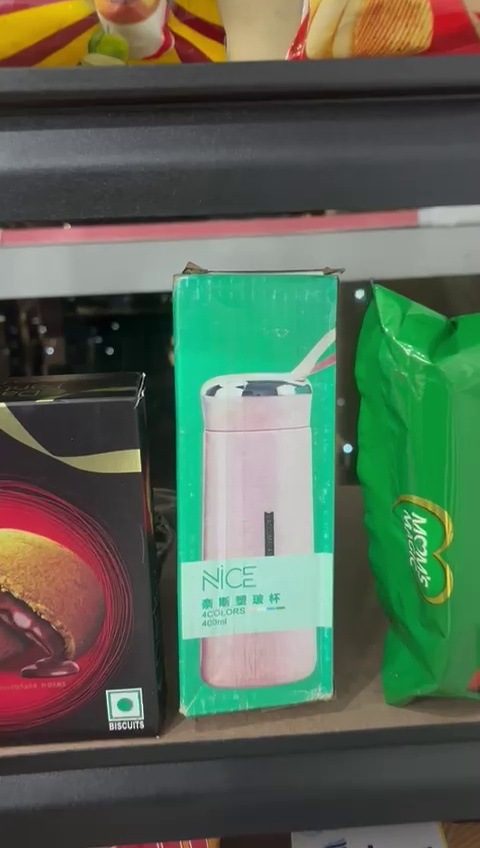Bottle: (184, 272, 340, 718)
